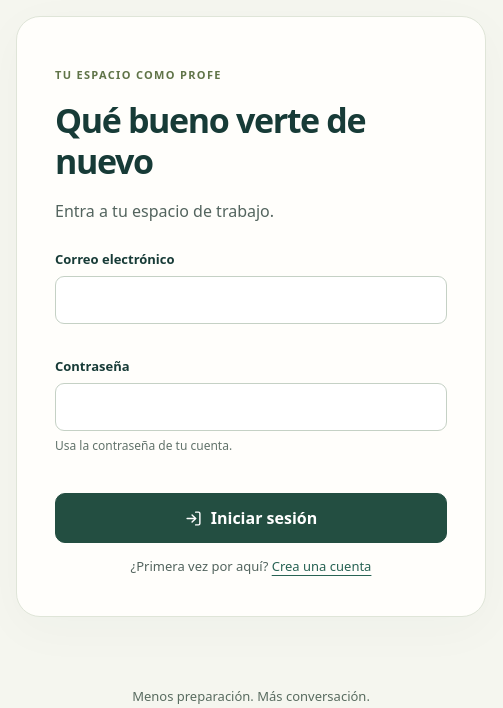
Scenario: submits login and shows server errors accessibly
The width and height of the screenshot is (503, 708).
Step 1. Type "profe@example.com" into the field labelled "Correo electrónico" → (251, 300), box [55,276,447,324]
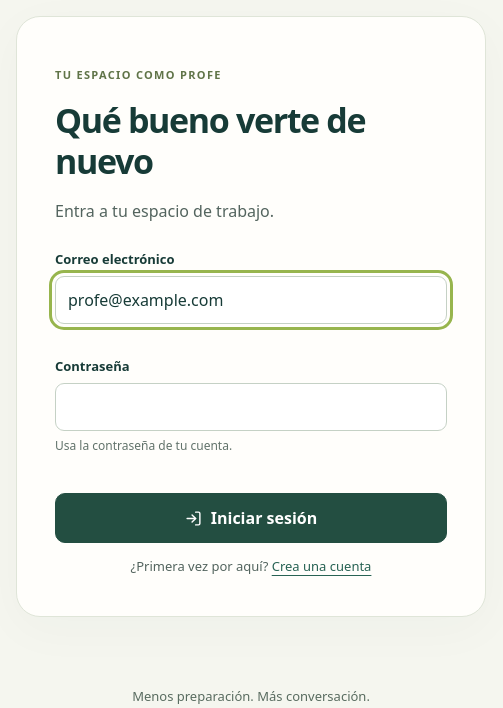
Step 2. Type "Password12345" into the password field labelled "Contraseña" → (251, 407), box [55,383,447,431]
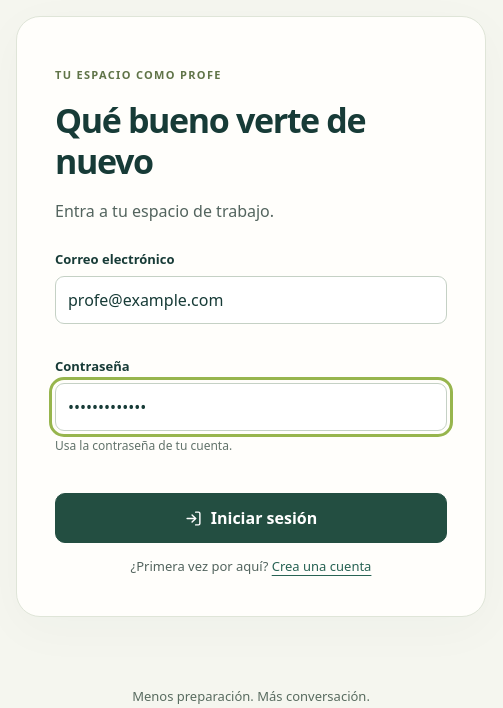
Step 3. Click the button "Iniciar sesión" → (251, 518), box [55,493,447,543]
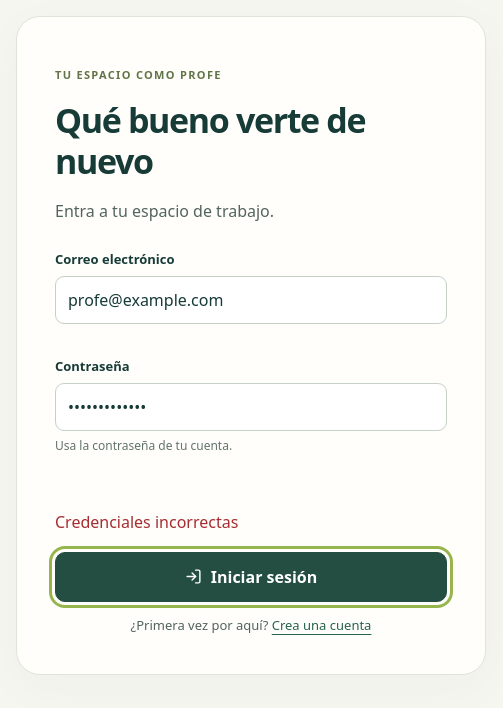
Expected: the message reads "Credenciales incorrectas", [55,511,238,533]
